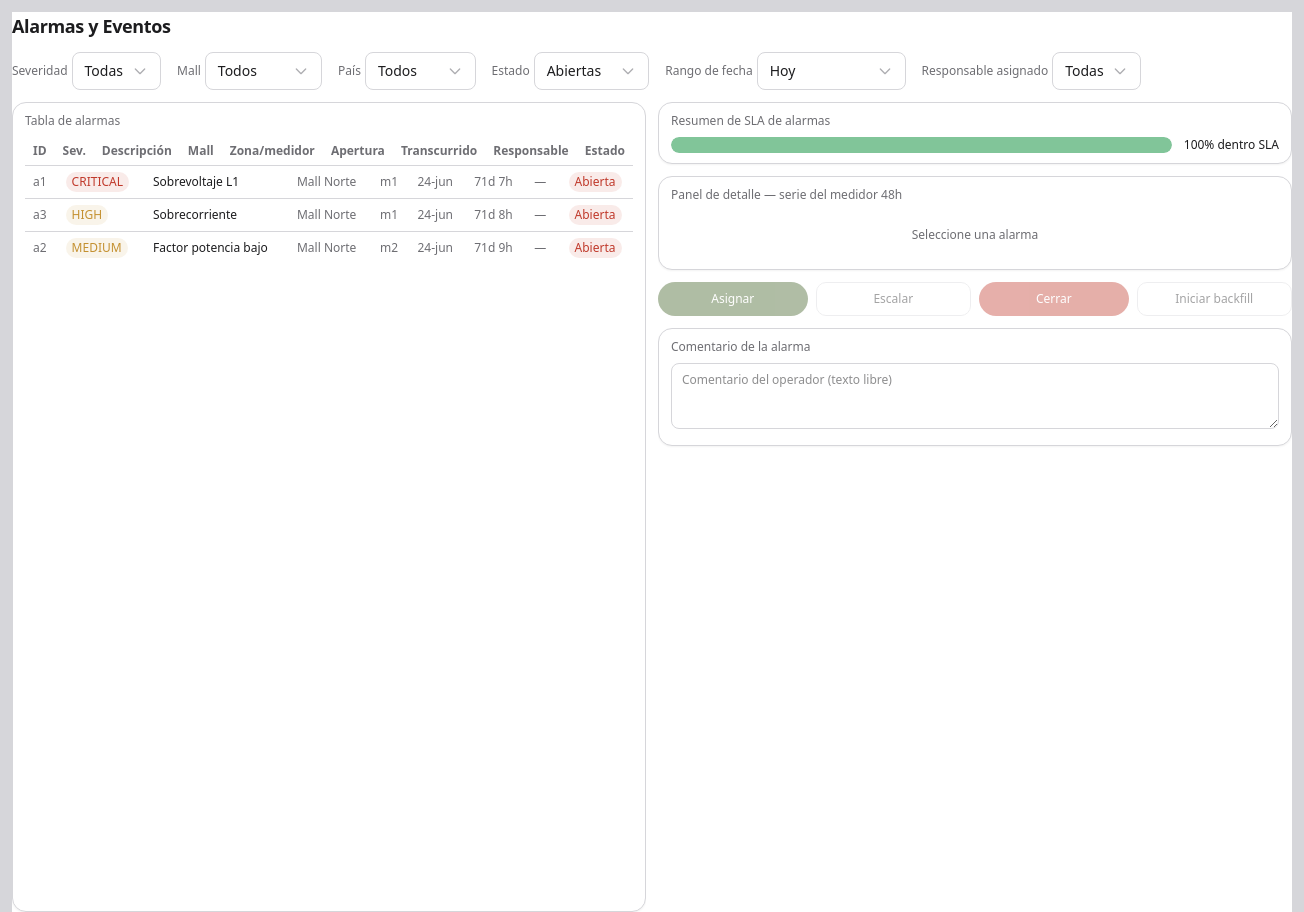
AlarmasEventosPage › row expand › shows expanded detail on row click
The image size is (1304, 912).
Click the text "Sobrevoltaje L1".
click(217, 182)  # box [145,166,289,198]
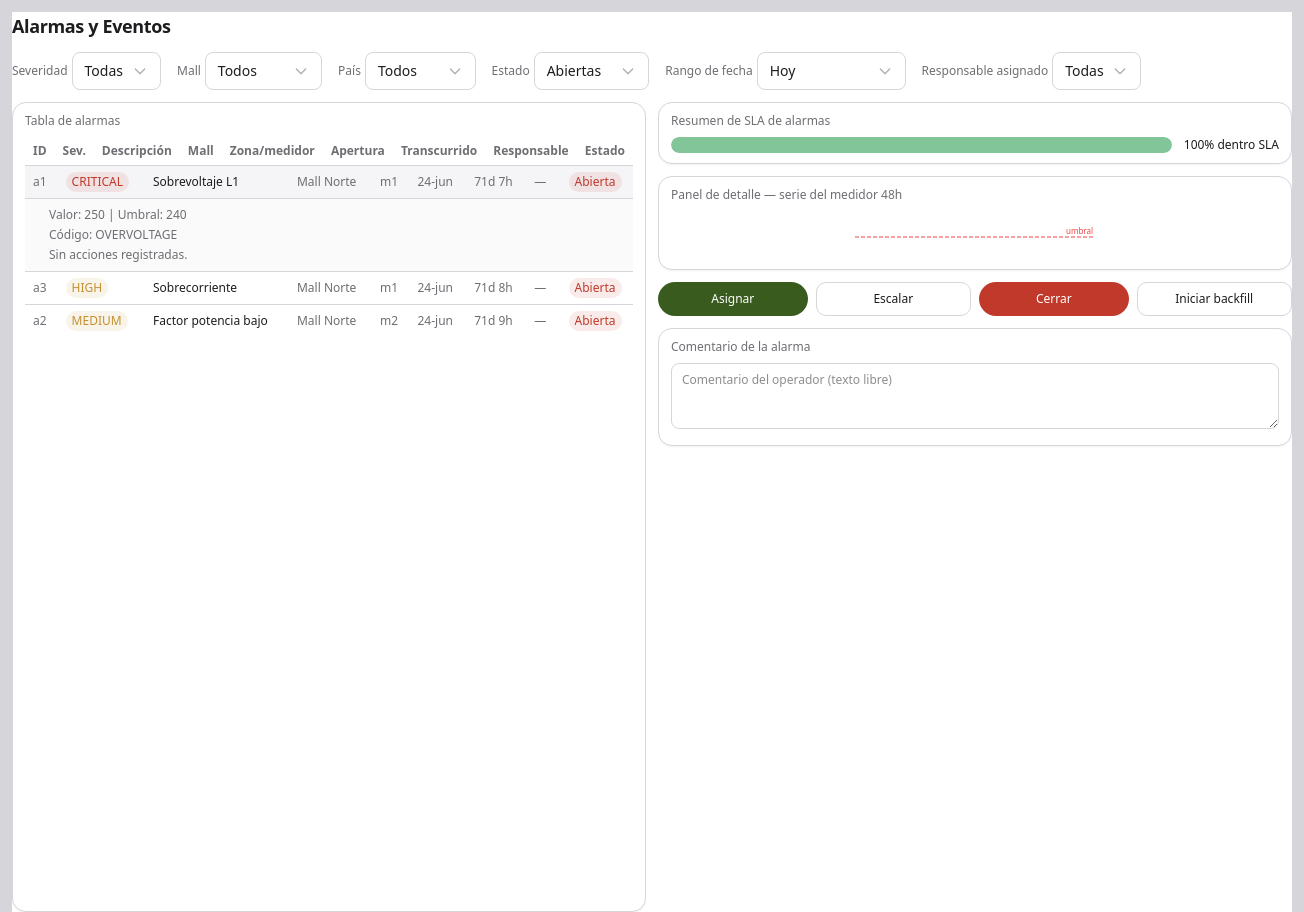
Expected: the text "Valor:" is shown, [49,206,81,223]
Expected: the text "Valor: 250 | Umbral: 240" is shown, [49,206,187,223]
